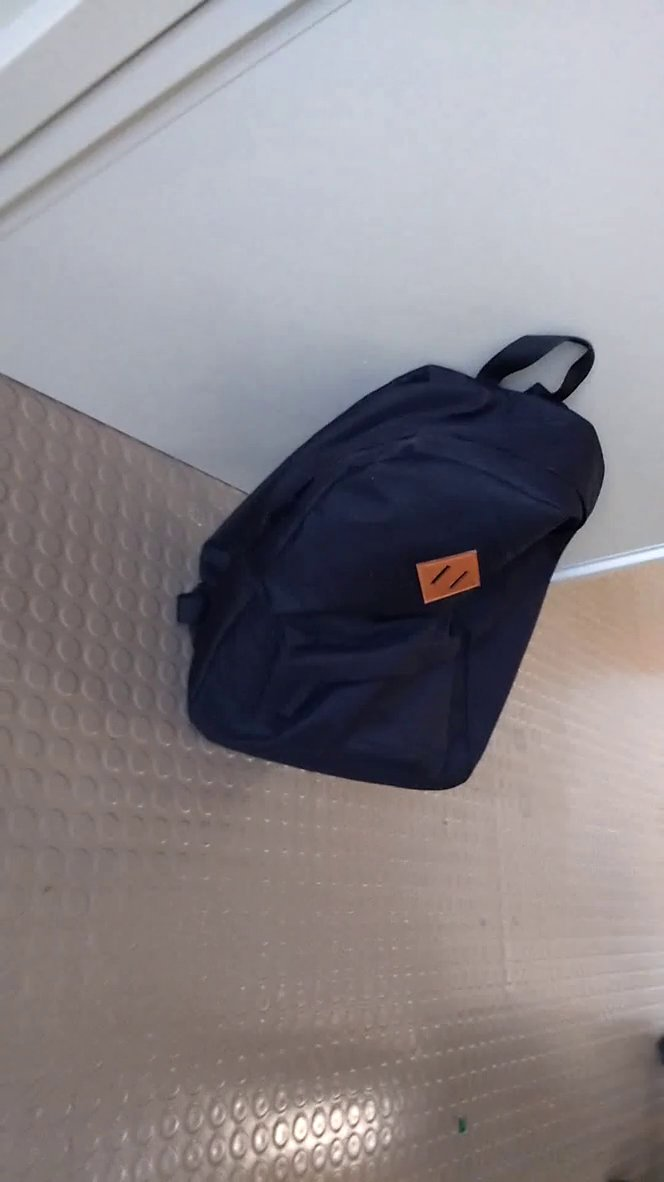bag: (171, 325, 614, 805)
